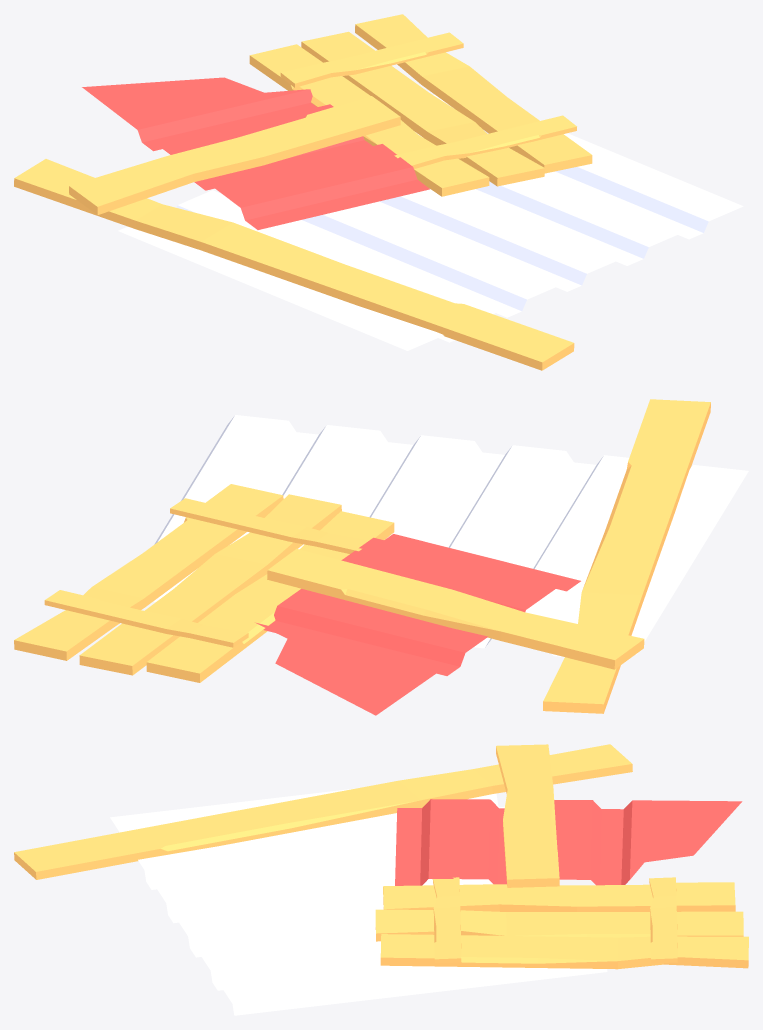
Rendered from Debris_Pile.gltf.
The picture shows the model from 3 angles, top to bottom: view 1: azimuth 30°, elevation 25°; view 2: azimuth 150°, elevation 25°; view 3: azimuth 270°, elevation 25°; orthographic projection. The views are drawn at different scales.
Visible parts, largest first — view 1: Debris_Pile; view 2: Debris_Pile; view 3: Debris_Pile.
Boxes of the visible parts, x1,y1,x2,y2 form: Debris_Pile: (14, 14, 743, 370); Debris_Pile: (14, 399, 748, 715); Debris_Pile: (14, 744, 748, 1015).
Size of the model in its own units: 212 by 16.35 by 263.
